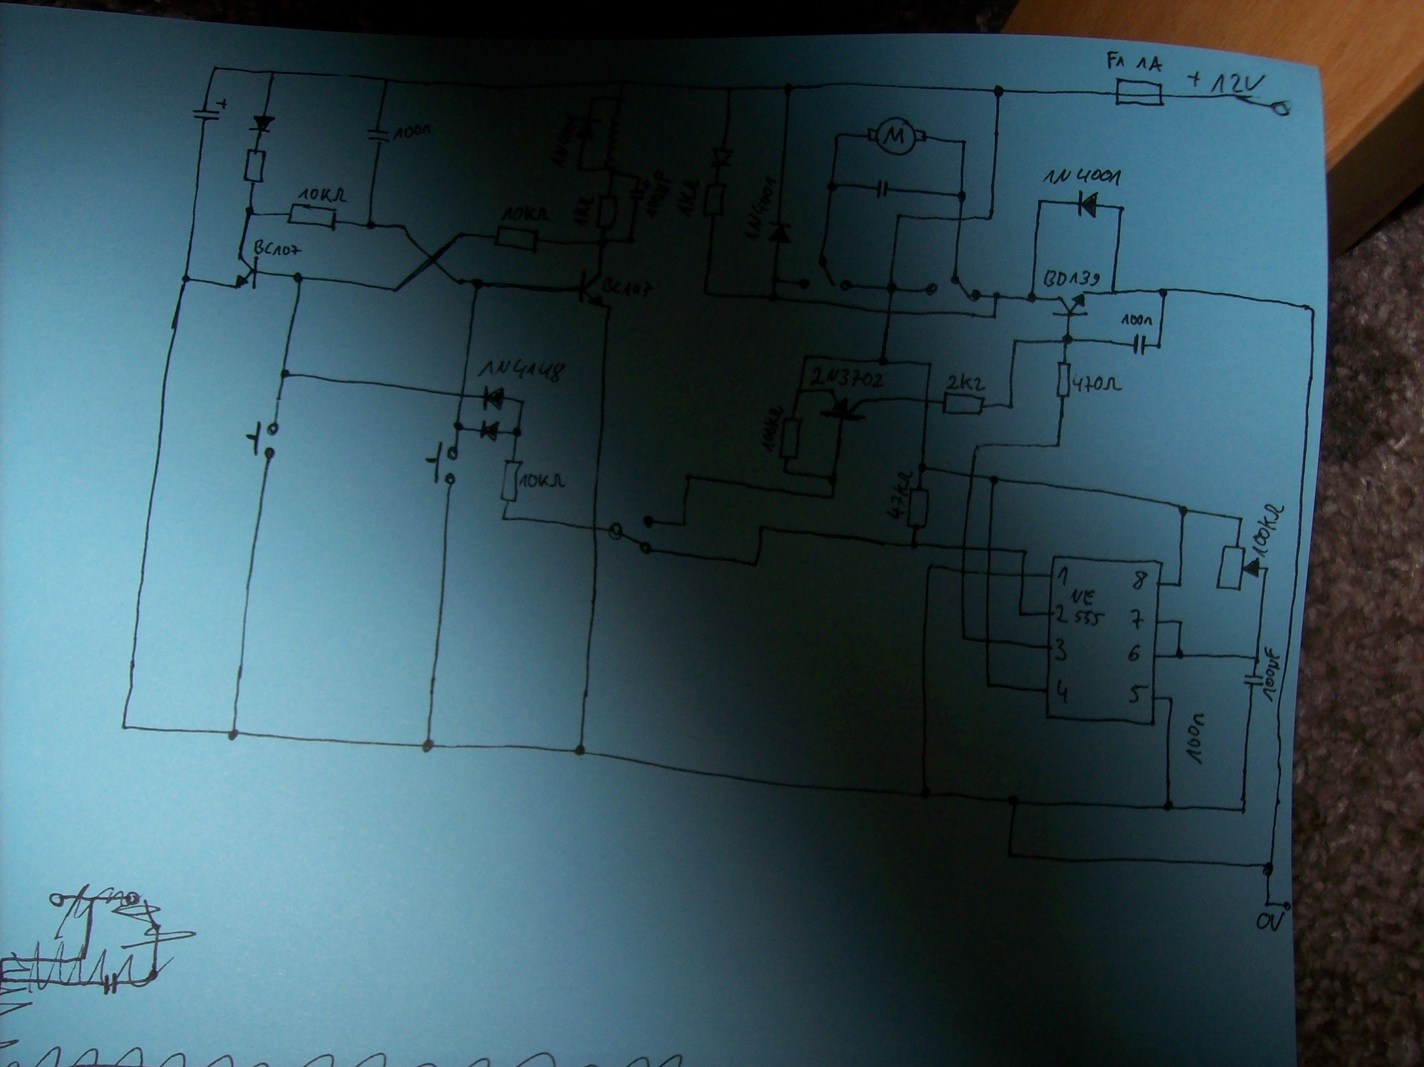capacitor.polarized: (190, 96, 229, 123), (629, 180, 652, 201)
capacitor.unpolarized: (365, 126, 391, 145), (1130, 332, 1148, 358), (1242, 672, 1265, 690), (874, 178, 890, 201)
crossover: (424, 251, 443, 269), (977, 567, 994, 579), (921, 395, 934, 407), (966, 468, 978, 482), (955, 213, 967, 225), (883, 306, 895, 317), (984, 544, 995, 555), (981, 635, 993, 647), (589, 523, 602, 533), (958, 542, 969, 553), (457, 390, 467, 400), (958, 566, 968, 576), (1017, 570, 1029, 579)
diode: (766, 219, 795, 245), (1076, 188, 1100, 220), (575, 114, 602, 141), (482, 384, 506, 414), (708, 145, 735, 170), (246, 113, 277, 134), (478, 418, 501, 443)
fuse: (1113, 76, 1167, 108)
inductor: (602, 105, 624, 164)
integrated_cricuit.ne555: (1042, 553, 1164, 729)
junction: (918, 783, 936, 802), (468, 276, 487, 293), (1005, 794, 1023, 809), (602, 164, 621, 178), (1059, 331, 1074, 347), (884, 280, 900, 296), (986, 472, 1002, 488), (573, 743, 589, 758), (1262, 860, 1275, 876), (826, 470, 839, 486), (992, 84, 1006, 99), (955, 188, 968, 204), (421, 737, 435, 753), (1305, 303, 1319, 317), (782, 81, 795, 95), (1004, 848, 1020, 861), (916, 460, 929, 475), (767, 290, 781, 304), (510, 425, 523, 438), (292, 271, 306, 285), (970, 440, 984, 454), (958, 631, 971, 644), (981, 678, 995, 692), (825, 180, 839, 193), (1024, 291, 1039, 304), (876, 355, 891, 368), (227, 727, 240, 742), (1174, 646, 1185, 661), (612, 92, 624, 105), (596, 236, 609, 249), (769, 273, 782, 286), (452, 420, 465, 433), (279, 368, 291, 381), (364, 219, 376, 232), (1162, 799, 1174, 813), (245, 203, 255, 219), (1157, 287, 1170, 299), (723, 83, 735, 95), (1116, 203, 1128, 215), (454, 228, 467, 239), (453, 275, 464, 288), (908, 538, 919, 551), (1178, 504, 1189, 517), (701, 286, 713, 298), (983, 212, 995, 223), (389, 284, 401, 295), (398, 222, 410, 233), (1035, 196, 1048, 207), (1015, 607, 1027, 619), (624, 235, 637, 245), (381, 76, 394, 86), (574, 163, 585, 174), (587, 93, 598, 104), (617, 77, 629, 89), (992, 290, 1003, 301), (678, 518, 689, 529), (756, 521, 767, 532), (119, 722, 130, 733), (180, 273, 192, 285), (1020, 546, 1031, 557), (924, 560, 936, 572), (894, 211, 906, 221), (683, 471, 694, 483), (959, 136, 969, 147), (989, 310, 999, 322), (780, 465, 790, 476), (750, 558, 760, 569), (499, 512, 509, 523), (268, 68, 279, 78), (1238, 804, 1248, 815), (1262, 899, 1272, 909), (832, 131, 843, 141), (801, 352, 811, 362), (518, 397, 528, 407), (1251, 653, 1262, 664), (1166, 693, 1176, 703), (1108, 288, 1119, 297), (794, 386, 806, 395), (1153, 341, 1163, 350), (1006, 401, 1015, 411), (1011, 336, 1020, 346), (1175, 579, 1184, 590), (1236, 514, 1245, 525), (633, 171, 643, 180), (925, 360, 936, 369), (827, 491, 836, 501), (211, 64, 221, 73), (1053, 440, 1062, 449), (1176, 618, 1185, 627)
motor: (865, 115, 929, 158)
resistor: (285, 202, 339, 233), (492, 223, 541, 256), (905, 485, 932, 532), (499, 458, 525, 504), (940, 391, 986, 417), (778, 416, 802, 461), (594, 192, 620, 233), (701, 180, 729, 219), (242, 147, 268, 185), (1055, 359, 1072, 401)
resistor.adjustable: (1214, 542, 1271, 593)
switch: (795, 253, 855, 291), (607, 513, 657, 556), (922, 273, 983, 304), (424, 440, 460, 488), (244, 419, 281, 460)
terminal: (1269, 98, 1292, 118), (1281, 899, 1292, 913)
text: (476, 356, 568, 386), (743, 175, 778, 243), (1250, 501, 1285, 559), (1186, 69, 1268, 94), (1041, 166, 1124, 189), (809, 365, 887, 390), (1069, 588, 1106, 628), (550, 113, 576, 169), (645, 168, 673, 219), (885, 470, 913, 520), (601, 276, 655, 299), (1041, 268, 1101, 289), (758, 406, 784, 454), (1183, 713, 1206, 766), (1262, 646, 1281, 703), (499, 204, 552, 224), (1072, 374, 1125, 395), (676, 178, 700, 219), (253, 236, 303, 256), (944, 372, 987, 393), (519, 472, 566, 491), (298, 185, 348, 202), (392, 122, 432, 142), (570, 195, 595, 226), (1255, 911, 1286, 933), (1120, 312, 1155, 328), (1135, 55, 1165, 74), (1128, 683, 1150, 705), (1106, 49, 1126, 71), (1055, 678, 1071, 705), (1053, 635, 1068, 662), (1129, 607, 1145, 632), (1130, 569, 1148, 591), (1054, 602, 1069, 625), (1126, 643, 1143, 664), (1057, 565, 1070, 587)
transistor: (577, 268, 617, 313), (819, 387, 867, 424), (1051, 290, 1091, 318), (233, 256, 260, 293)
